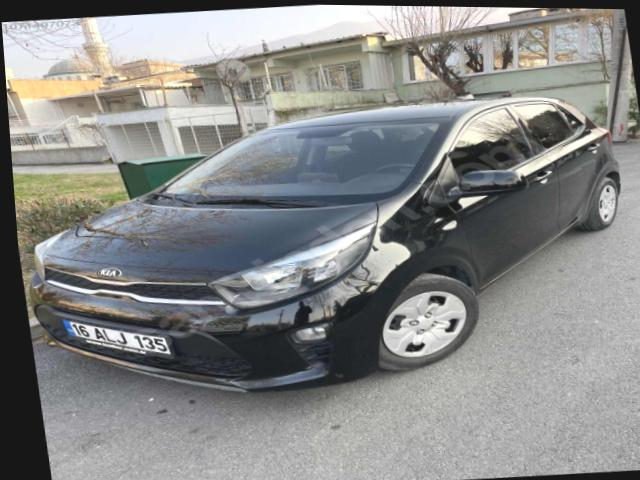plaka: (64, 320, 171, 354)
